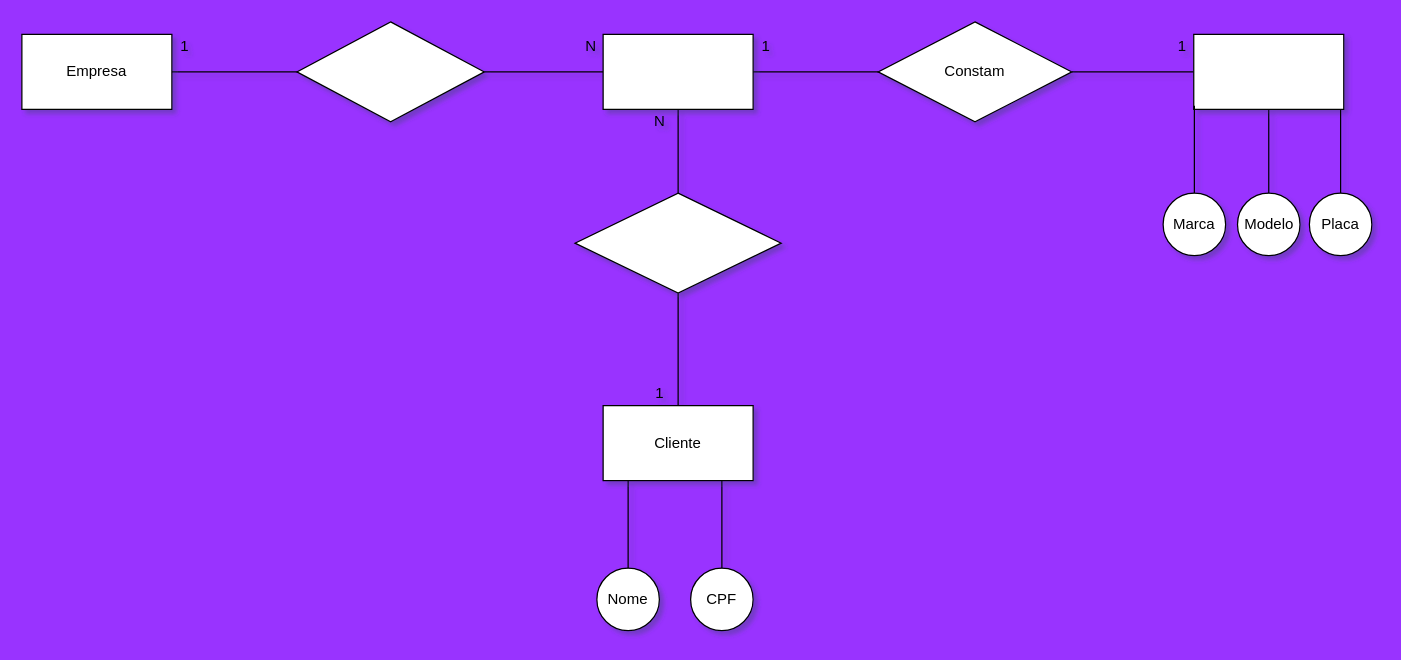
This 1401x660 diagram has some shape labels left out. The box of each missing label's shape, as (x1, y1, x2, y2) in pixels:
Aluga: (574, 192, 781, 293)
Informações: (1192, 33, 1344, 109)
Possui: (296, 21, 484, 122)
Veículos: (602, 33, 753, 109)
